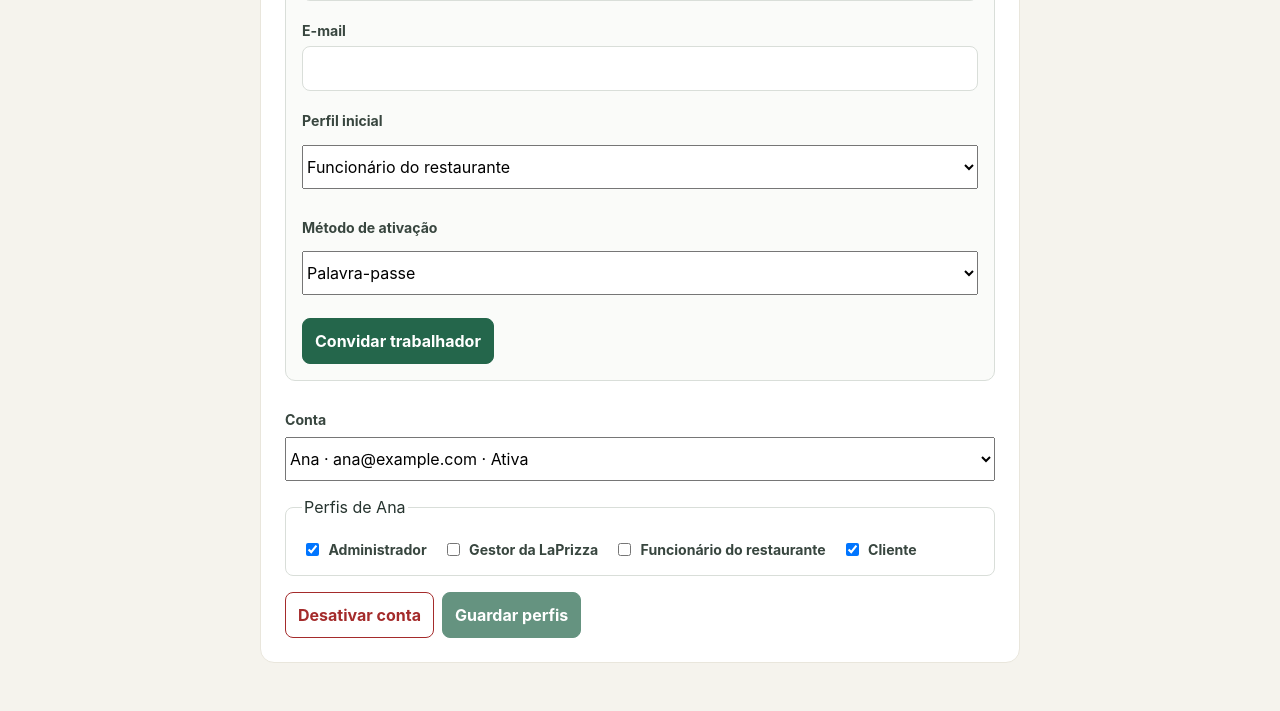
Scenario: clears the account list when a role update removes Administrator access
(page scrolled)
Click the checkbox labelled "Administrador" at [312, 550], box 306,544 -> 319,556
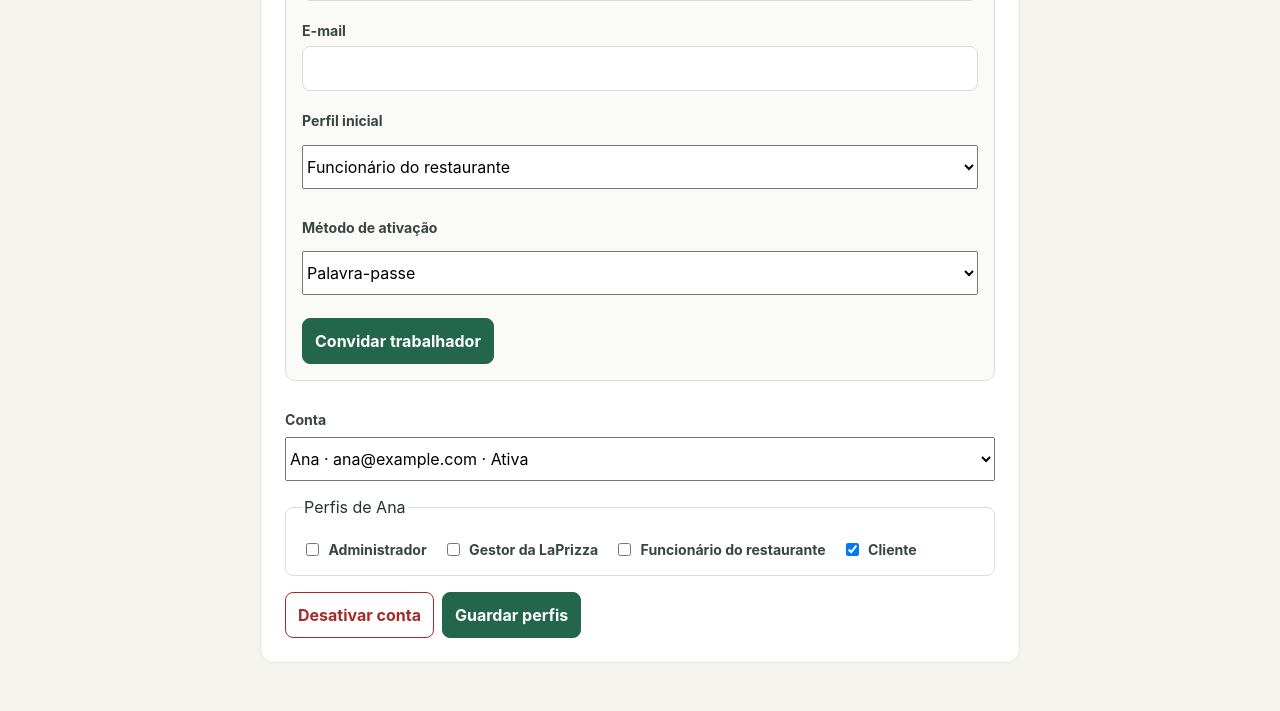
Click the button "Guardar perfis" at [512, 616], box 442,592 -> 581,638
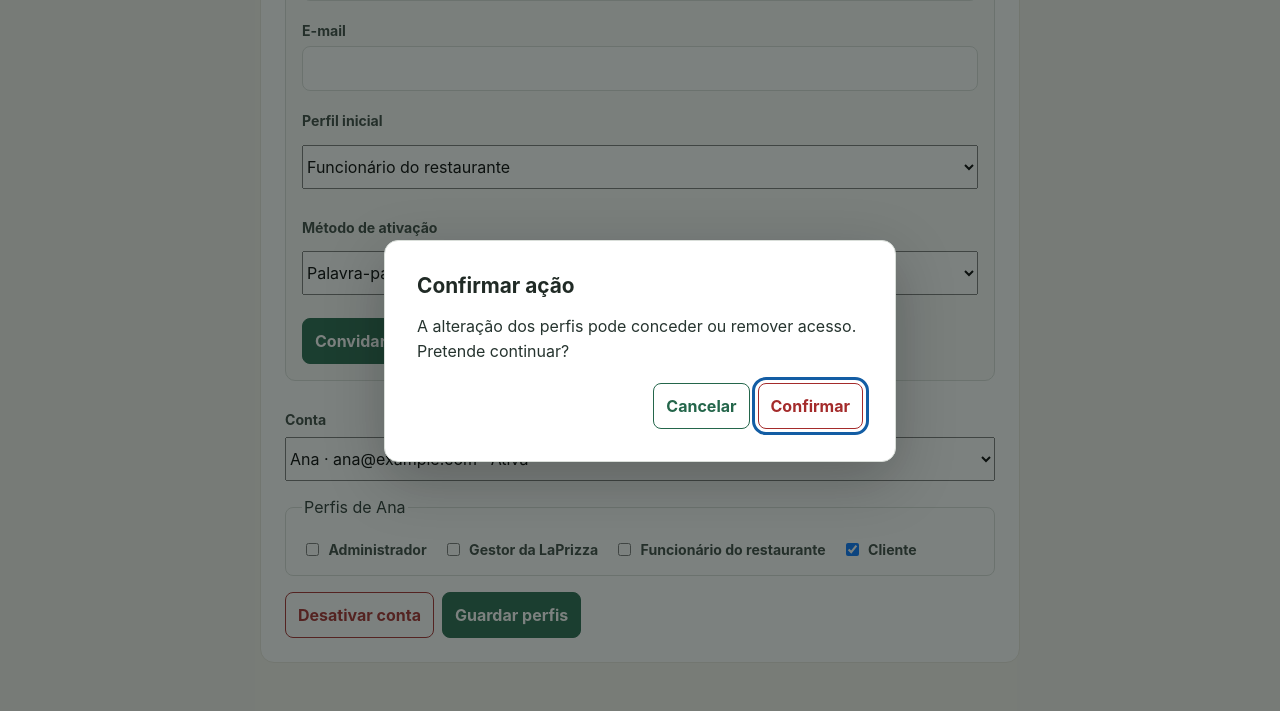
Click the button "Confirmar" at [810, 406], box 758,383 -> 863,429
(page scrolled)
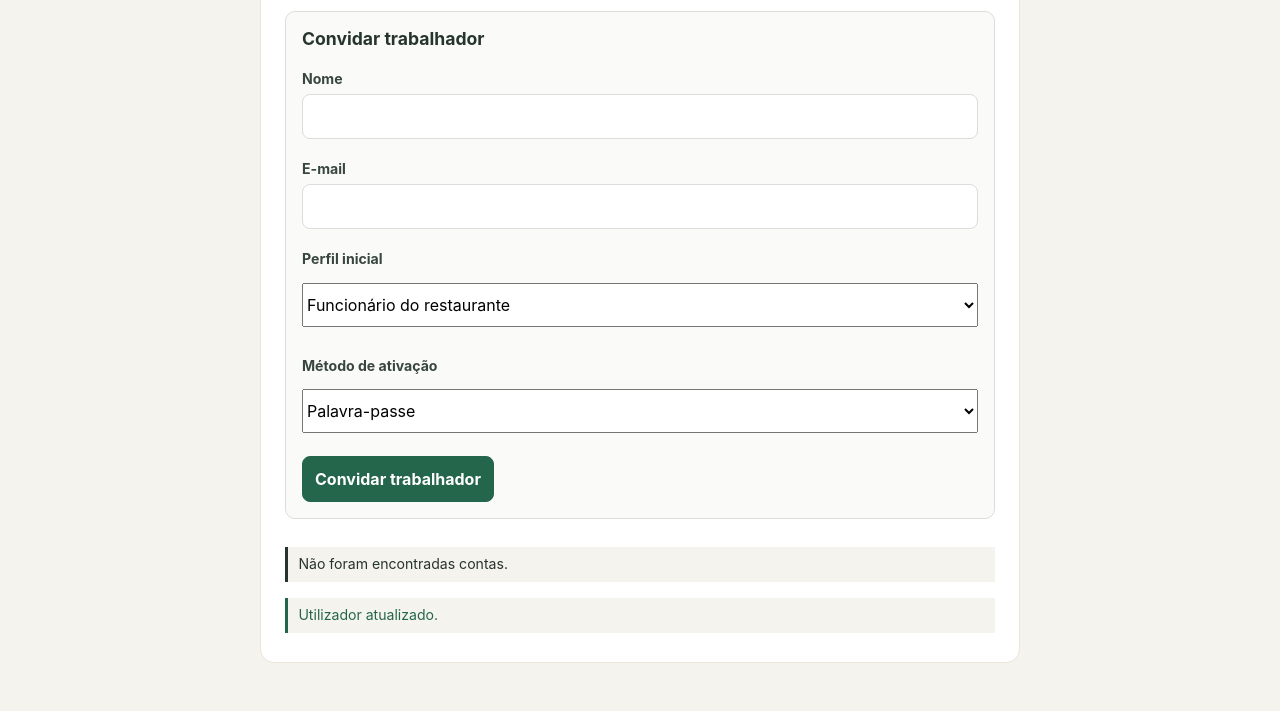
Expected: the label with id "managed-user" is gone
Expected: the text "Não foram encontradas contas." is shown, 285,547 -> 995,582
